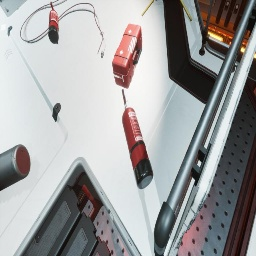FireExtinguisher ]: (122, 89, 154, 189), (48, 2, 59, 44)
FirstAidBox ,: (112, 24, 142, 89)
NitrogenTank ,: (0, 144, 30, 191)
